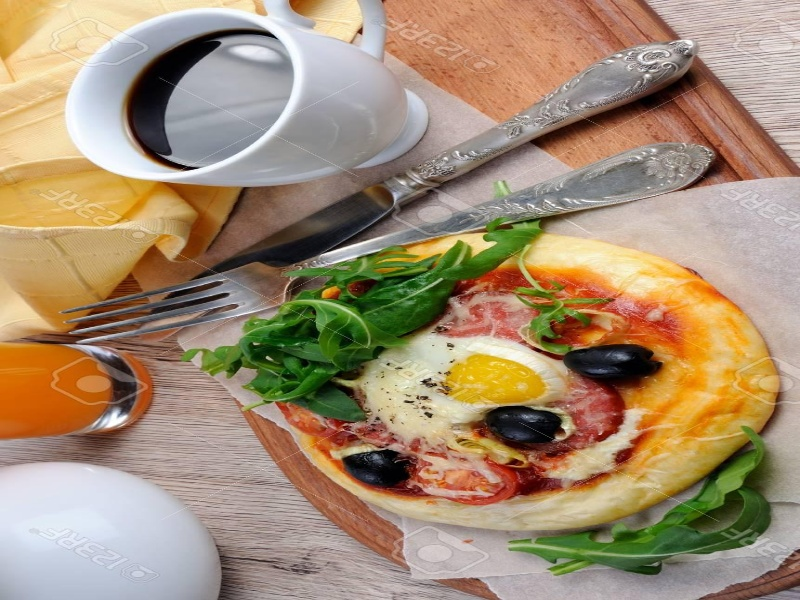oeuf: (426, 342, 552, 410)
olive: (560, 341, 669, 391), (483, 402, 568, 454), (339, 443, 423, 495)
